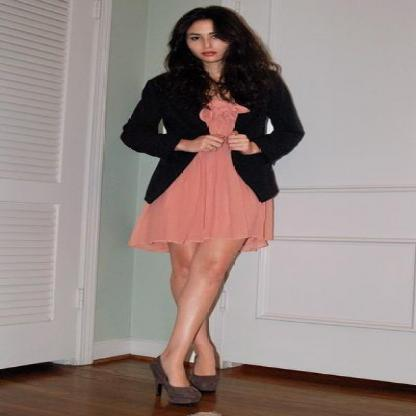dress: (128, 94, 273, 252)
jacket: (120, 75, 304, 203)
shoe: (147, 360, 216, 406)
